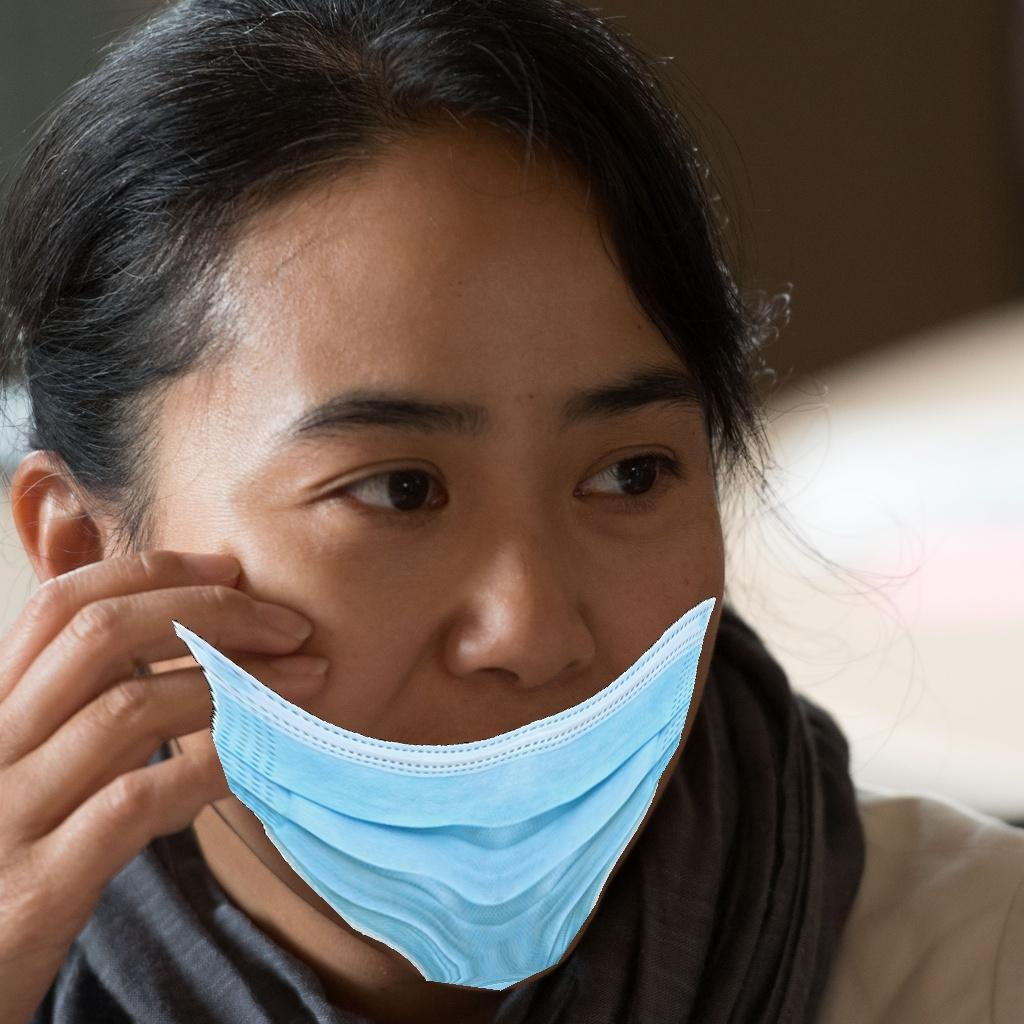Máscara Incorreta: (178, 313, 709, 938)
